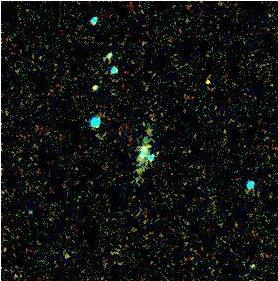star: (114, 132, 144, 162)
